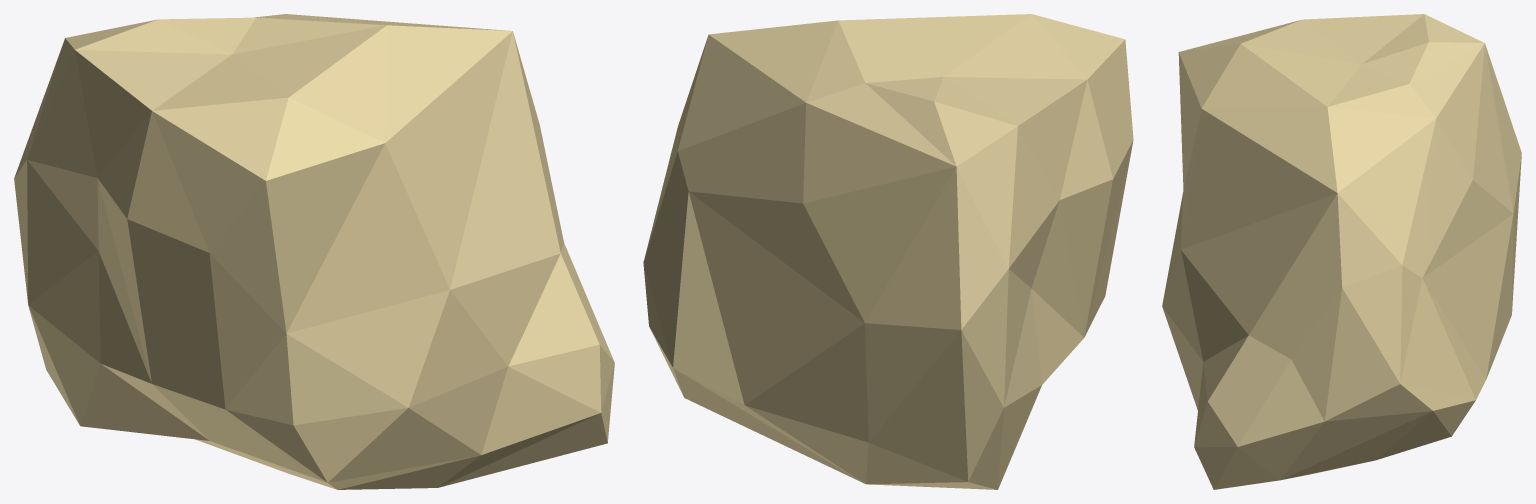
Rendered from Rock (52).fbx.
3 views of the same model, side by side, from view 1: azimuth 30°, elevation 25°; view 2: azimuth 150°, elevation 25°; view 3: azimuth 270°, elevation 25° (orthographic). The views are drawn at different scales.
Visible parts, largest first — view 1: Asteroid51; view 2: Asteroid51; view 3: Asteroid51.
Boxes of the visible parts, box(x1,y1,x2,y2) form: Asteroid51: box(14, 14, 614, 489); Asteroid51: box(643, 14, 1133, 489); Asteroid51: box(1162, 14, 1521, 489).
Size of the model in its own units: 168 by 156 by 144.
